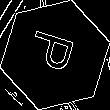P_E: (26, 30, 84, 80)
